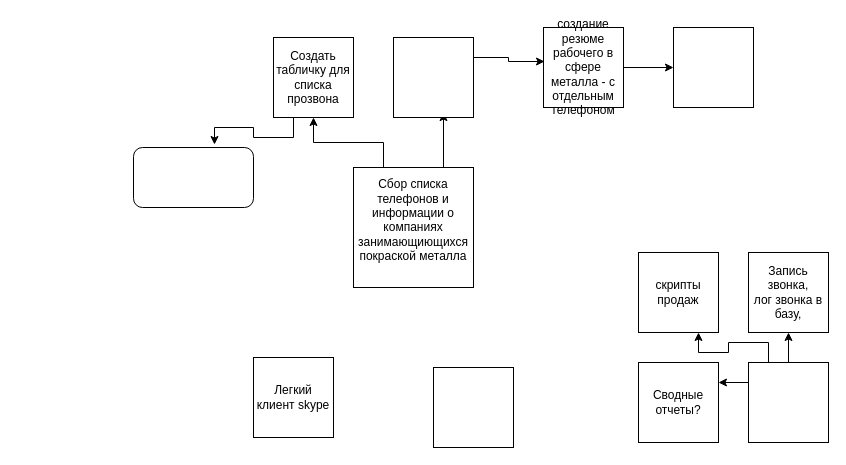
Some shapes in this 846 by 465 pixel diagram are drawn without their labels. Here are the shapes that lost their labels. From the top down, the centre of each, then its label:
At point (433, 77): "Найти методы поиска и попытаться автоматизировать процесс".
At point (713, 67): "Продавец металла, сварщик, фрезеровщик".
At point (193, 177): "https://airtable.com/tblqhw8HoKn9whnGd/viwhT76KmpxZUeM7u?blocks=hide".
At point (788, 402): "Анализ данных по звонкам и компниям".
